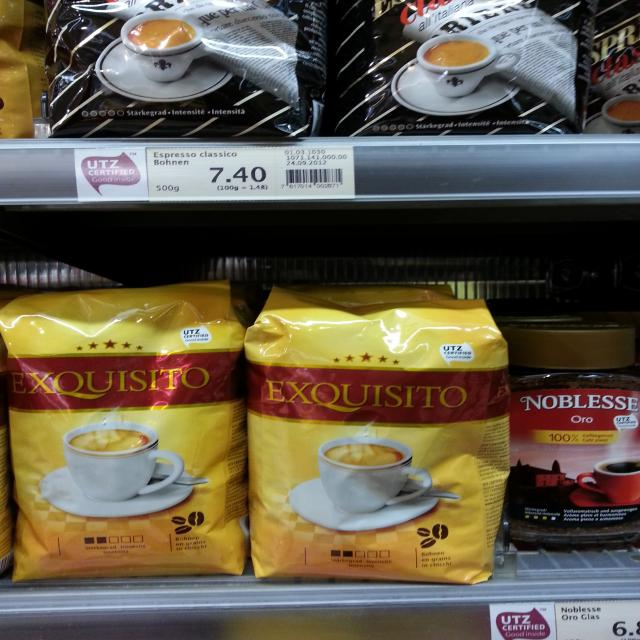Coffee: (0, 280, 258, 582), (250, 288, 503, 580), (46, 0, 319, 137), (333, 3, 582, 134), (503, 322, 640, 551)
